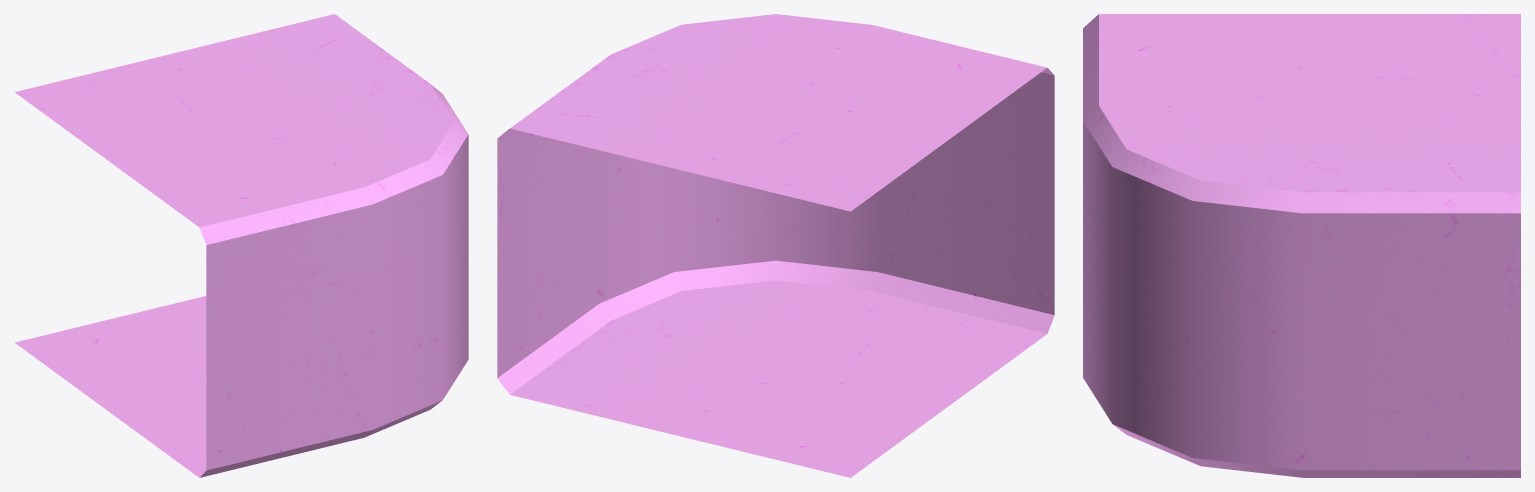
Rendered from AirDuctCorner_01_SM_Low.fbx.
3 views of the same model, side by side, from view 1: azimuth 30°, elevation 25°; view 2: azimuth 150°, elevation 25°; view 3: azimuth 270°, elevation 25° (orthographic). The views are drawn at different scales.
Visible parts, largest first — view 1: Corner_Tight; view 2: Corner_Tight; view 3: Corner_Tight.
Boxes of the visible parts, x1,y1,x2,y2 form: Corner_Tight: (15,14,468,477); Corner_Tight: (497,14,1054,477); Corner_Tight: (1083,14,1520,477).
Bounding box in the file's own units: 88.9 × 64 × 88.9.
Materials: 1 (1 with a texture image).
